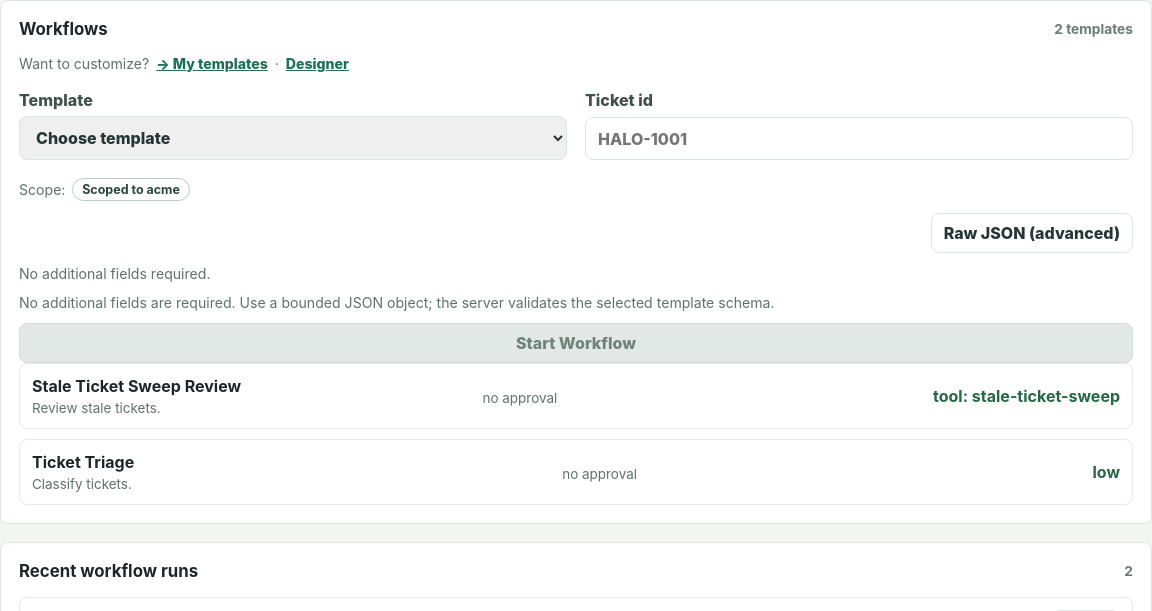
Test: Workflows › shows the no-fields state and blocks missing required inputs
Select "Stale Ticket Sweep Review" in the dropdown labelled "Template": (293, 138) [19,116,567,160]
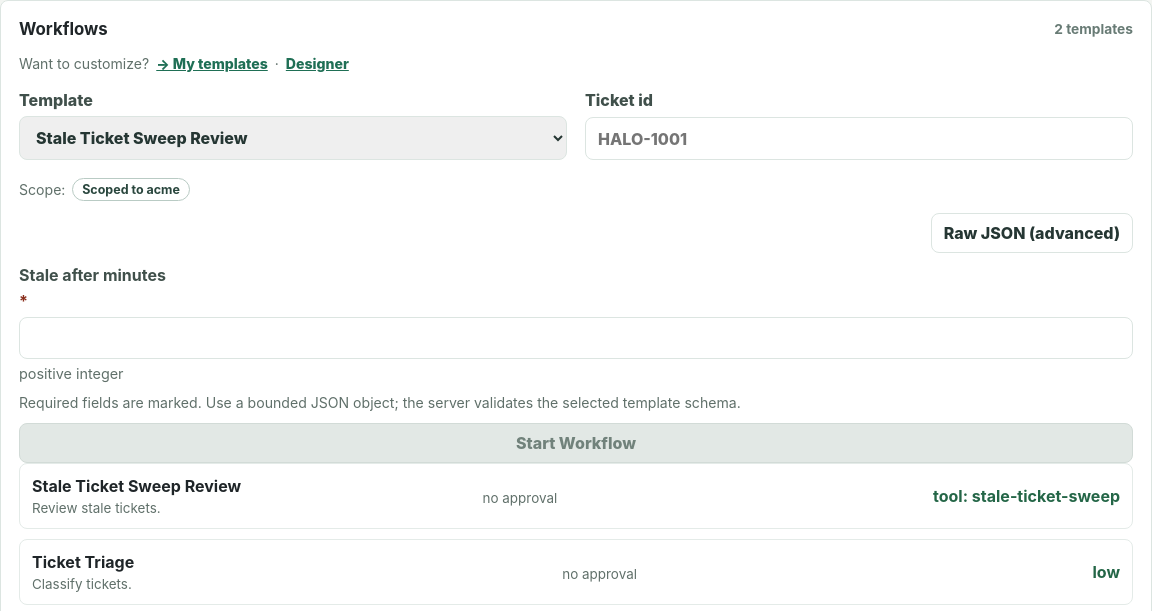
In the field labelled "Ticket id": (859, 138) [585,117,1133,160], type "TCK-1"
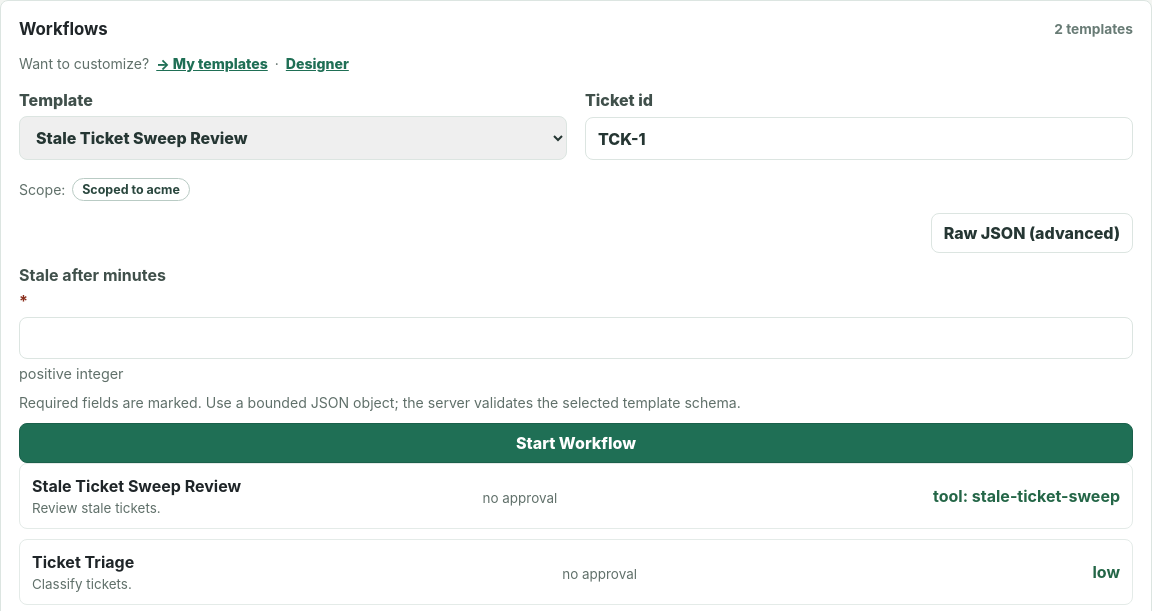
Click the button "Start Workflow": click(576, 443) [19,423,1133,463]
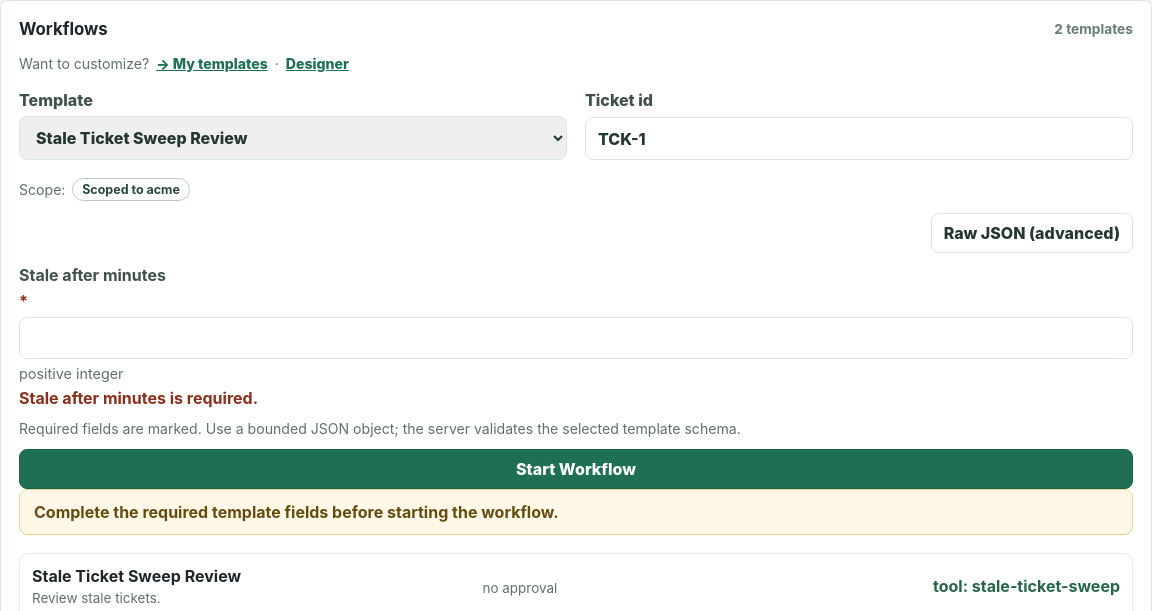
Expected: the text "Stale after minutes is required." is shown, [19,388,258,408]
Select "Ticket Triage" in the dropdown labelled "Template": (293, 138) [19,116,567,160]
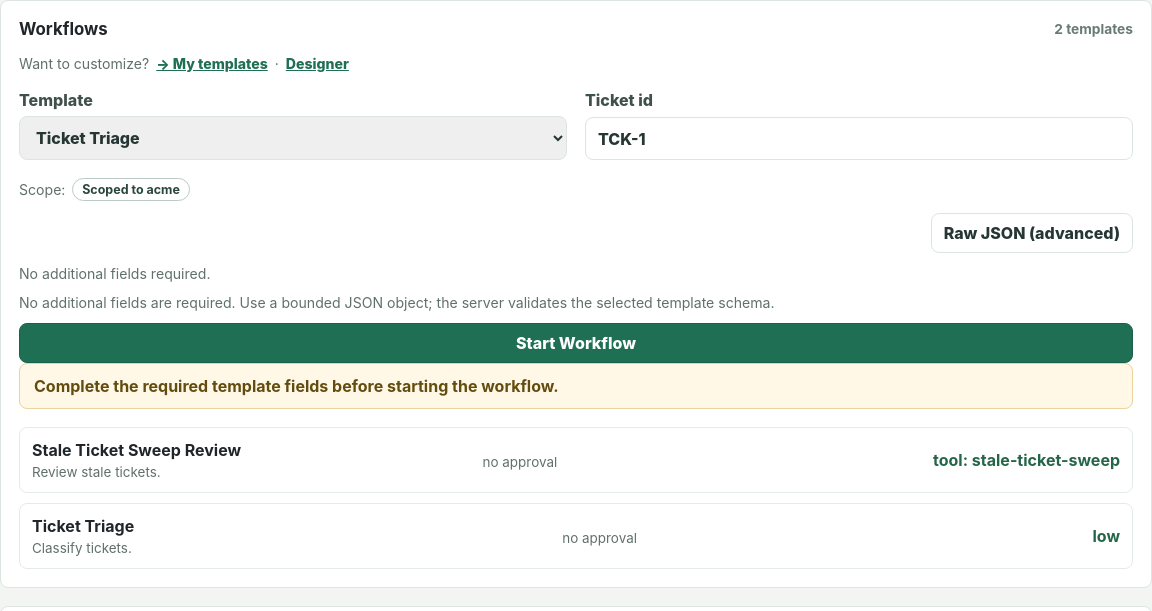
Expected: the text "No additional fields required." is shown, [19,265,210,282]
